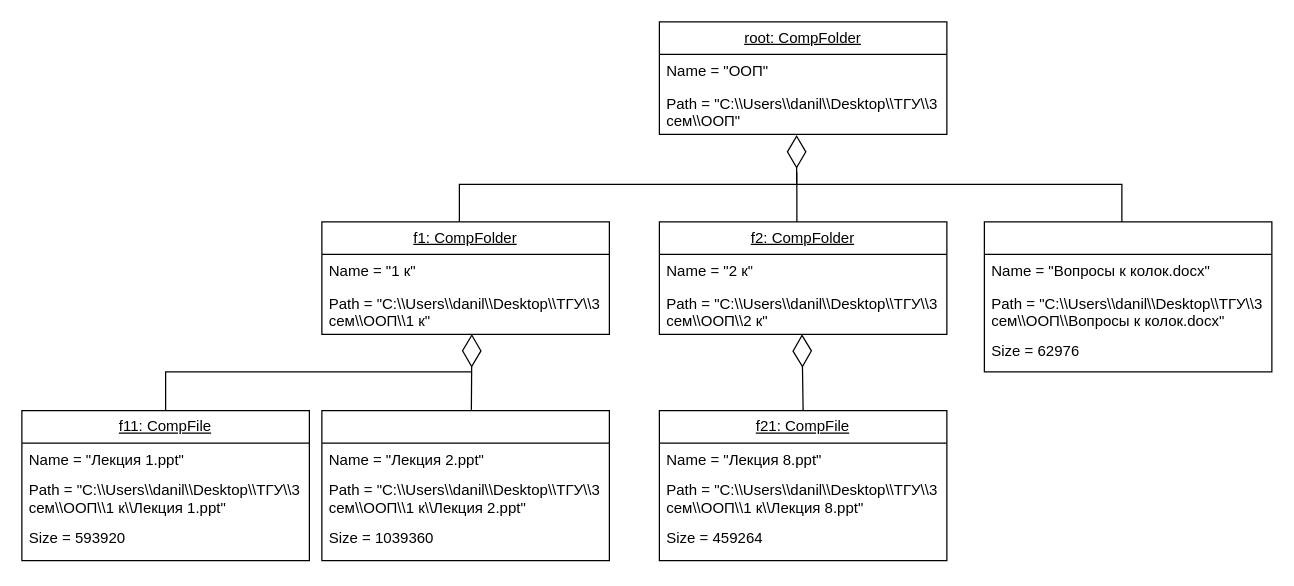
Image size: 1294x586. Some labels were removed from this diagram. Here are the shapes that lost their labels. From the top down, the box of each, then its label:
(983, 221, 1272, 372): f2: CompFile
(321, 409, 609, 561): f12: CompFile
